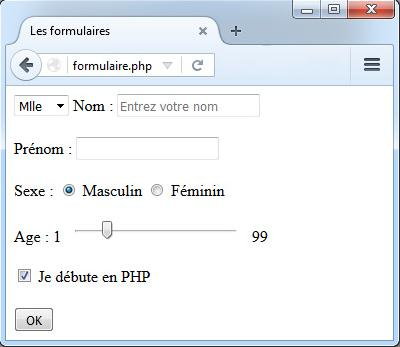button: (14, 308, 55, 331)
checkbox: (16, 268, 32, 284)
checkbox_with_label: (14, 266, 152, 285)
field: (116, 93, 262, 118), (75, 136, 220, 161), (13, 94, 70, 117)
field_with_label: (14, 135, 222, 162), (73, 92, 264, 119)
radio: (60, 182, 76, 197), (150, 182, 164, 197)
radio_with_label: (58, 180, 141, 198), (148, 181, 225, 198)
